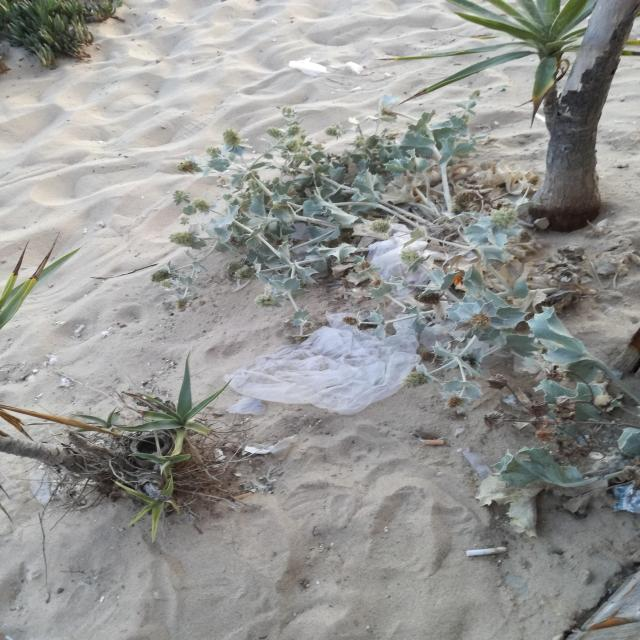litter: (224, 311, 421, 415), (367, 232, 431, 284), (394, 224, 433, 269), (613, 485, 639, 514), (227, 398, 265, 415), (466, 547, 508, 556), (232, 492, 253, 501), (420, 440, 444, 445)
